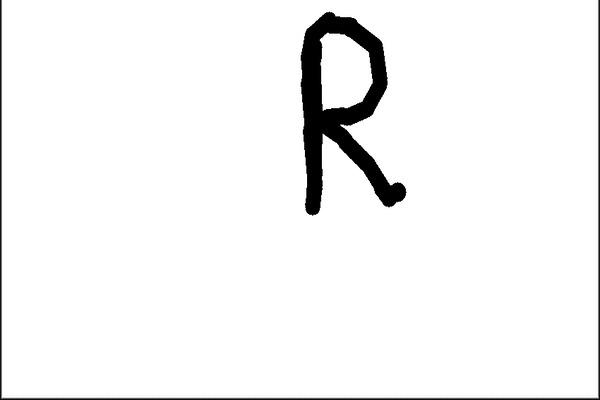R: (287, 7, 419, 228)
